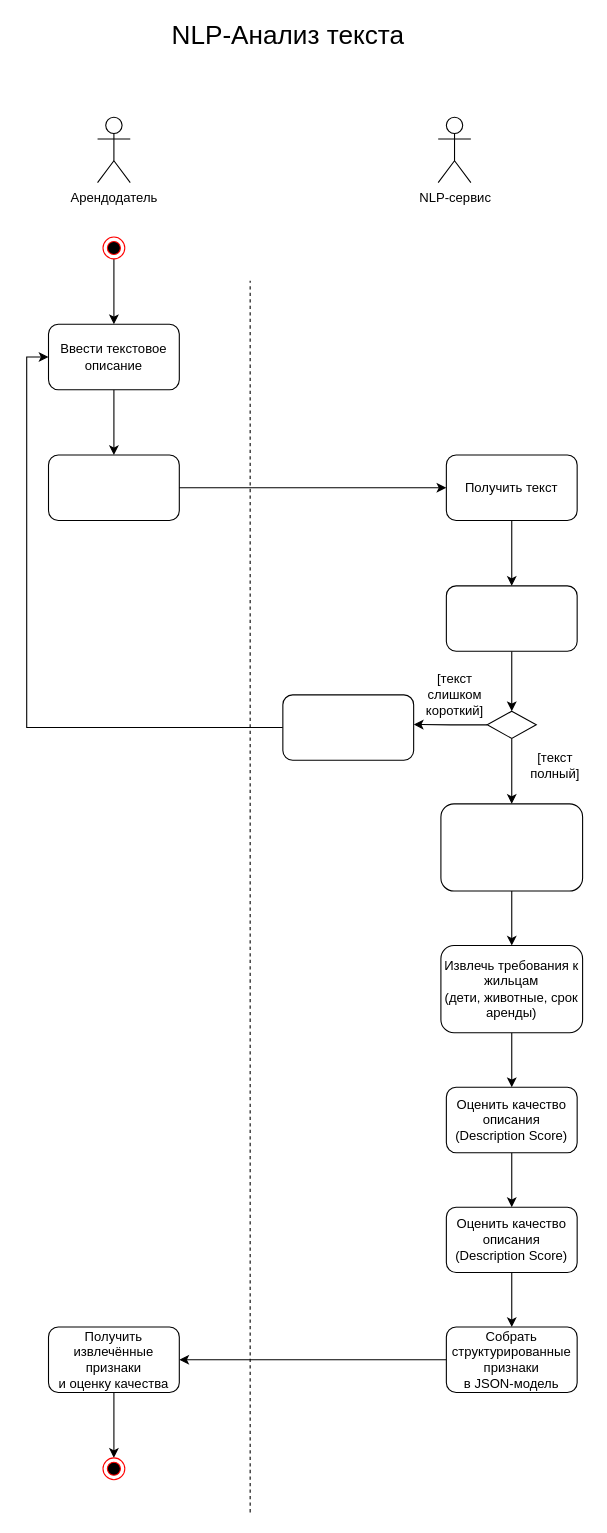
Some shapes in this 607 by 1533 pixel diagram are drawn without their labels. The shapes that lost their labels are listed below. From the top down, each one's centre as x and y in pixels, then its label:
the point at 113,487: Отправить текст на анализ
the point at 511,618: Нормализовать текст
the point at 348,727: Сформировать сообщение об ошибке
the point at 511,847: Извлечь характеристики квартиры (комнаты, площадь, ремонт, мебель)
